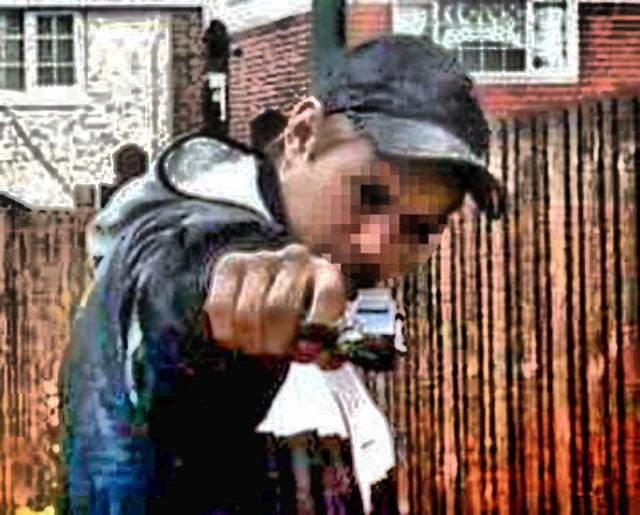pistol: (288, 285, 406, 373)
